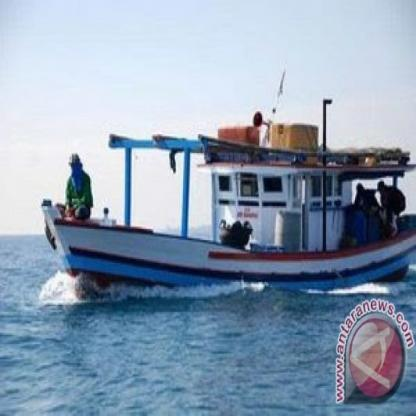fishing boat: (33, 140, 414, 293)
